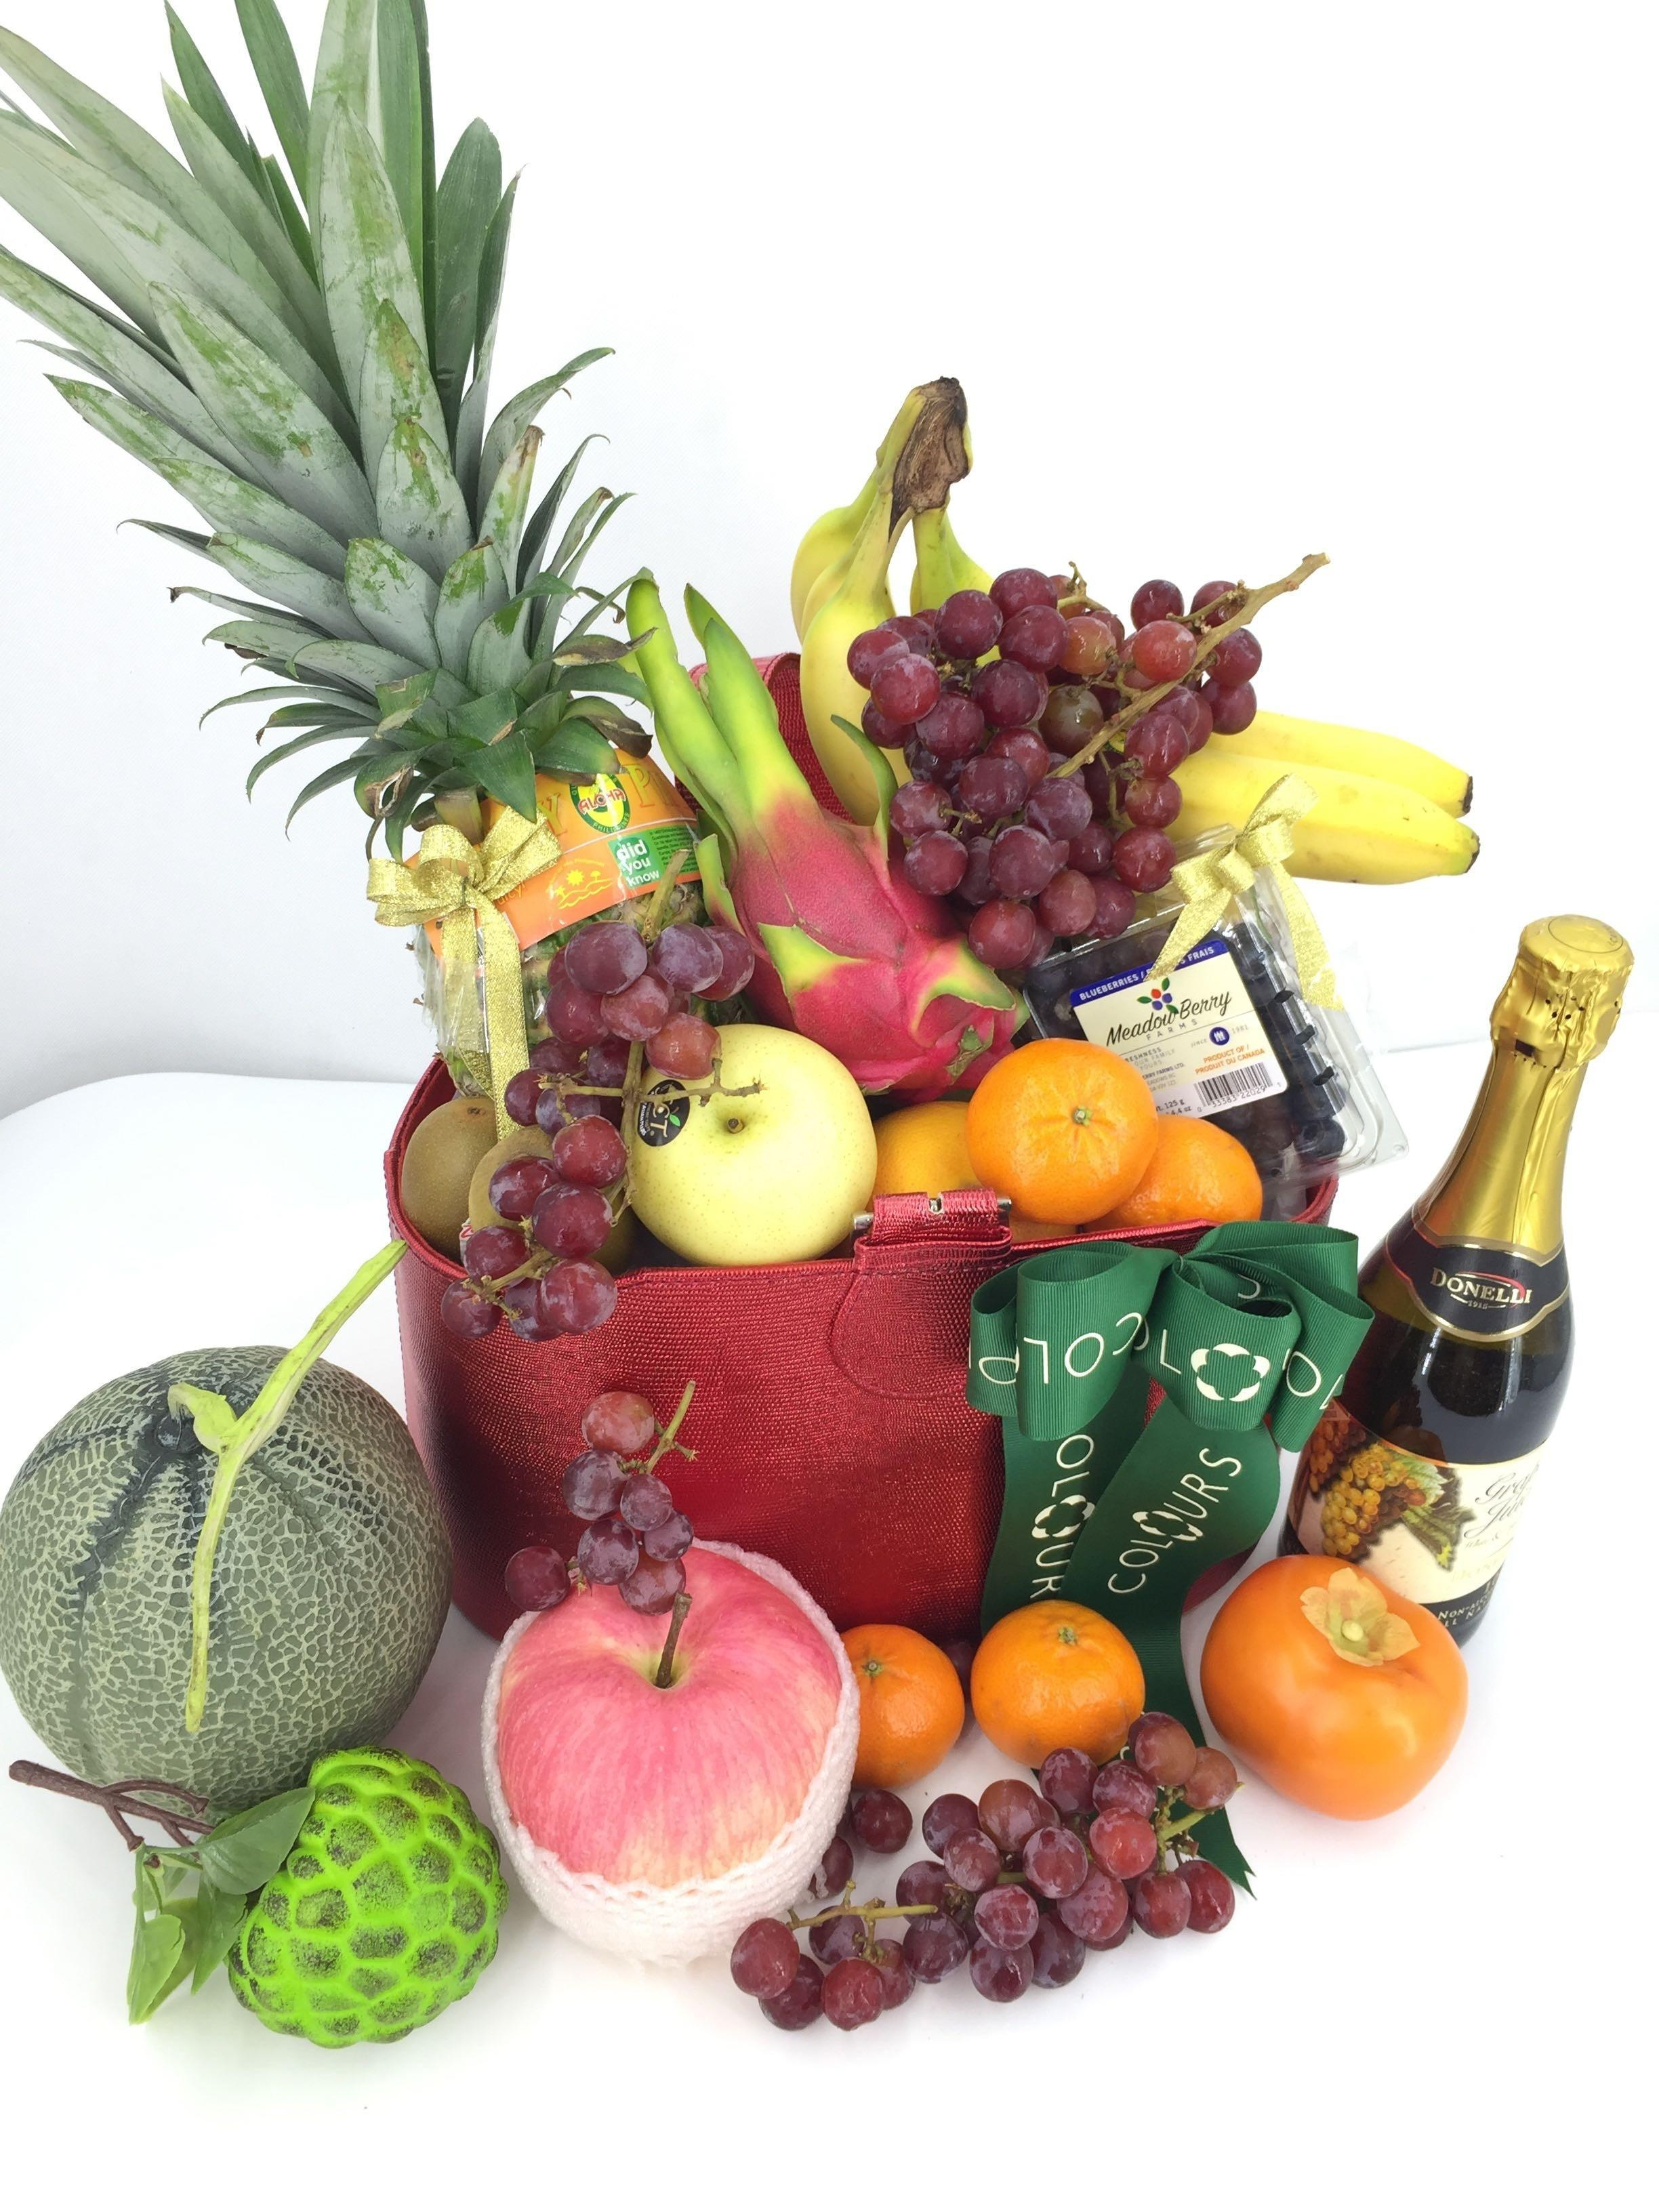apple: (477, 1540, 863, 1965)
